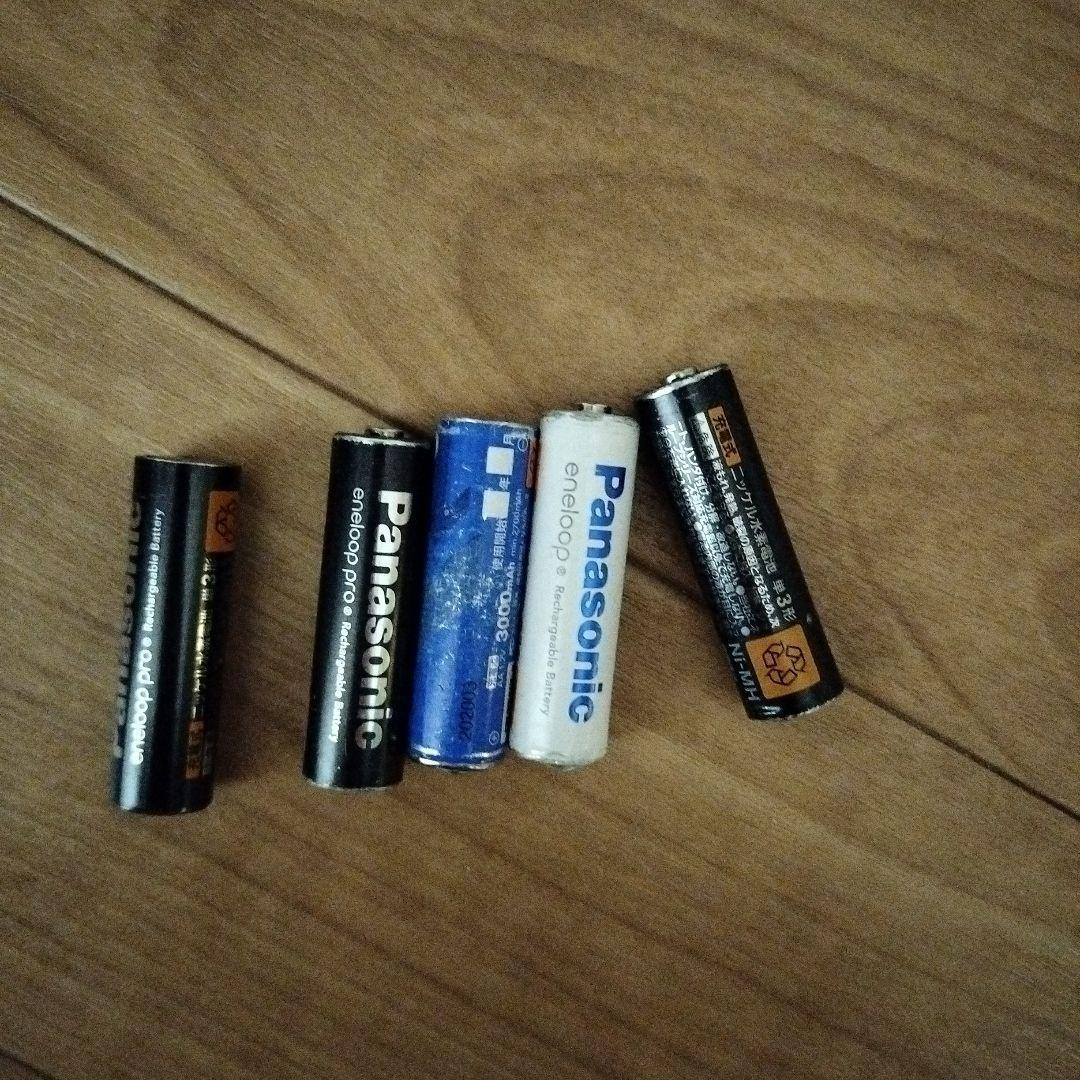AA: (634, 356, 853, 724), (503, 396, 644, 780), (105, 452, 248, 822), (299, 417, 432, 799), (403, 412, 540, 776)
